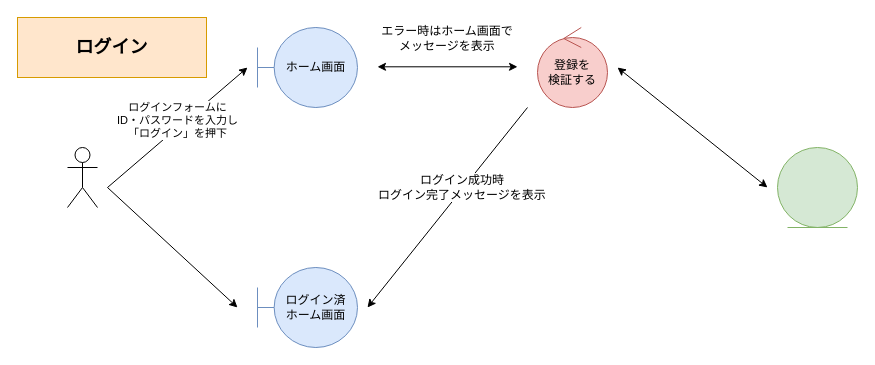
Some shapes in this 875 by 365 pixel diagram are drawn without their labels. The shapes that lost their labels are listed below. From the top down, each one's centre as x and y in pixels, then its label:
point (82, 177): 管理者 正規社員 非正規社員
point (817, 187): CustomUser モデル
